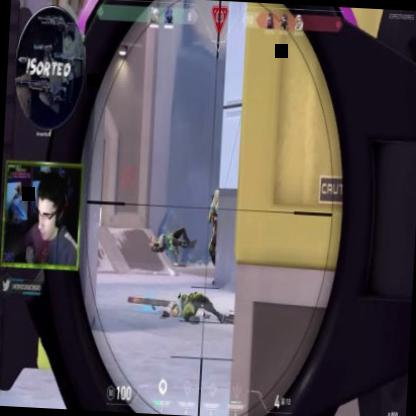enemy: (204, 187, 232, 275)
enemy_head: (212, 190, 221, 209)
